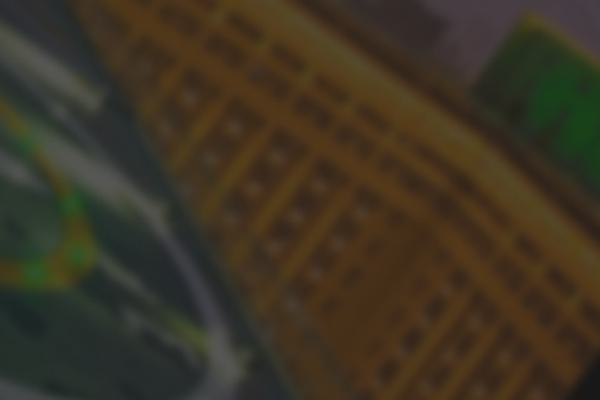Apron: (1, 51, 106, 294)
